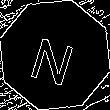N_N: (29, 25, 81, 85)
